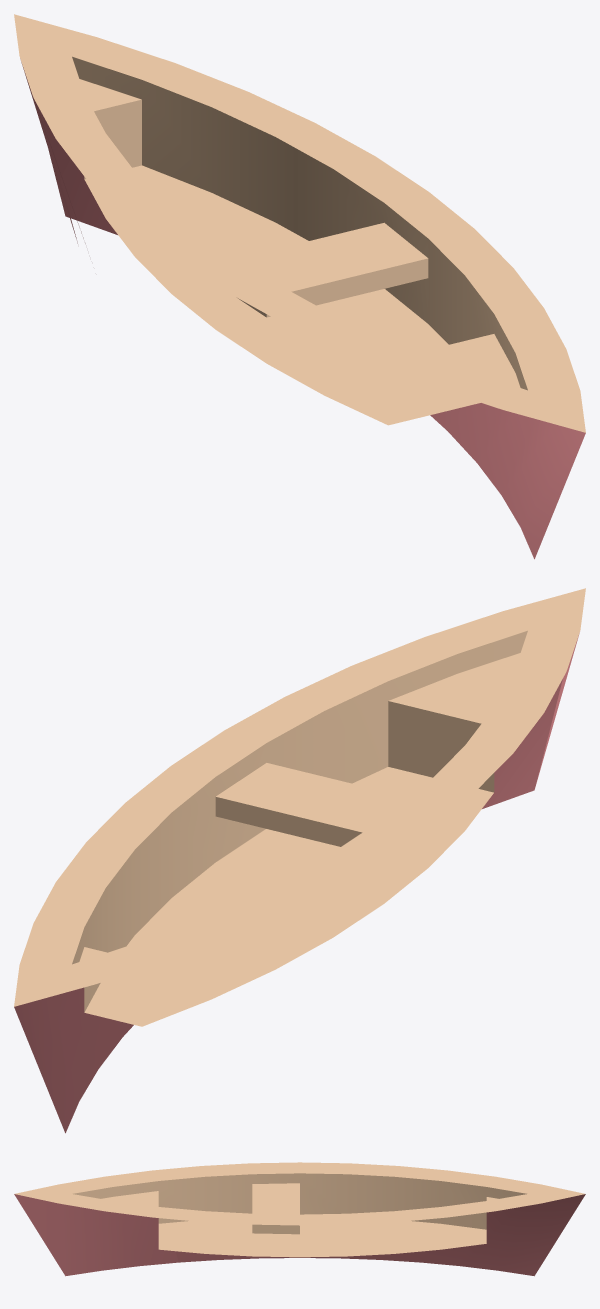
Rendered from canoe.glb.
The picture shows the model from 3 angles, top to bottom: view 1: azimuth 30°, elevation 25°; view 2: azimuth 150°, elevation 25°; view 3: azimuth 270°, elevation 25°; orthographic projection. The views are drawn at different scales.
Visible parts, largest first — view 1: canoe; view 2: canoe; view 3: canoe.
Boxes of the visible parts, bbox=[...] form: canoe: bbox=[14, 14, 585, 559]; canoe: bbox=[14, 588, 585, 1133]; canoe: bbox=[14, 1162, 585, 1276].
Size of the model in its own units: 3 by 1.83 by 11.5.
